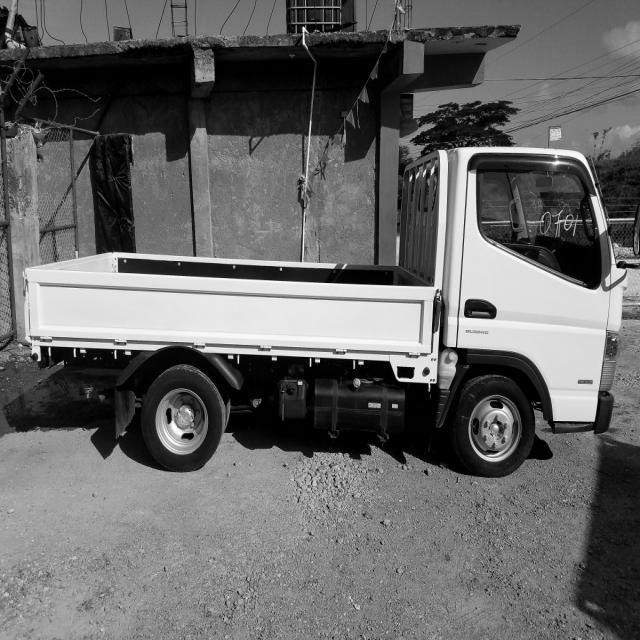truck: (391, 126, 640, 472)
